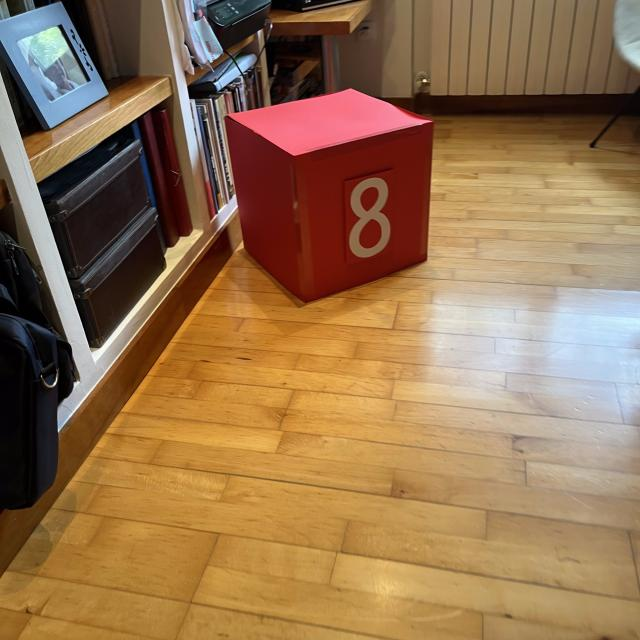box: (221, 85, 436, 305)
